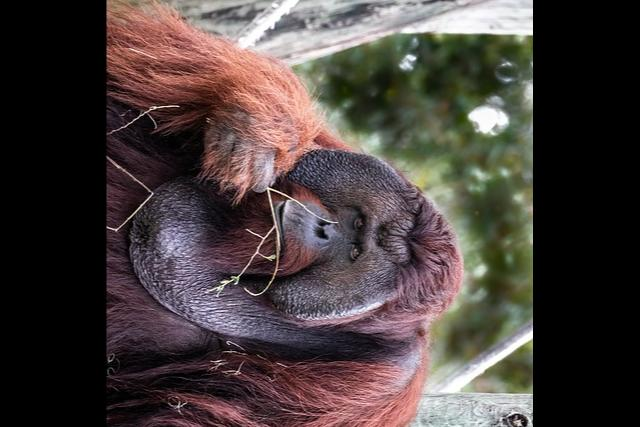gorille_Autres: (106, 6, 525, 427)
